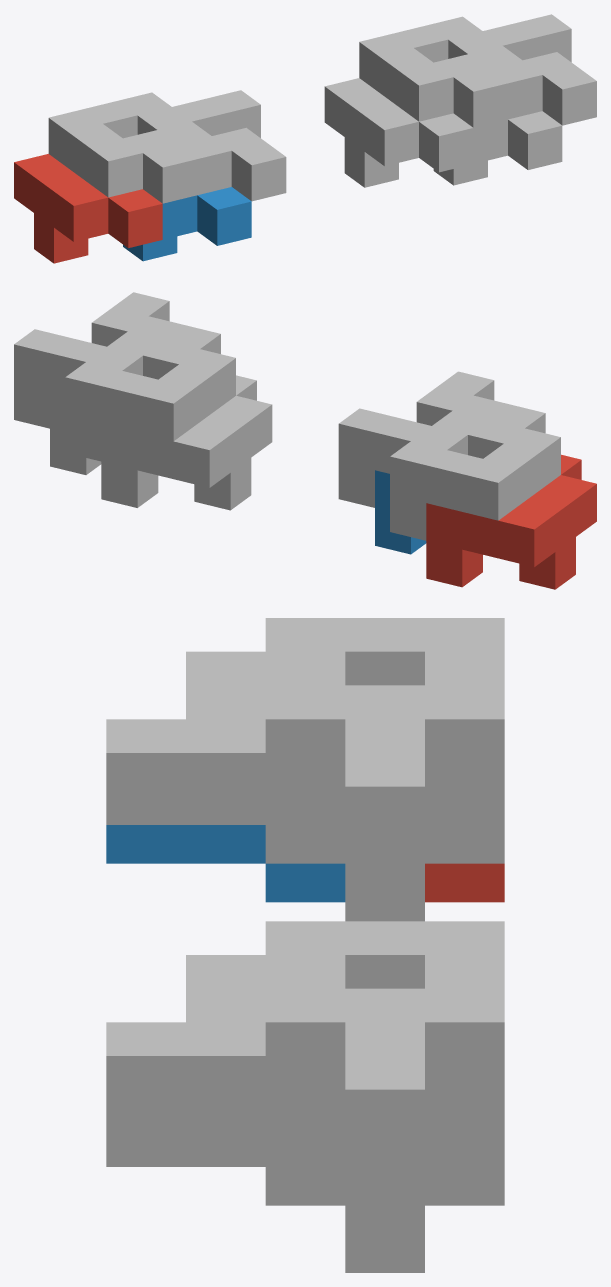
Rendered from tiling.obj.
3 views of the same model, one above another, from view 1: azimuth 30°, elevation 25°; view 2: azimuth 150°, elevation 25°; view 3: azimuth 270°, elevation 25° (orthographic). The views are drawn at different scales.
Visible parts, largest first — view 1: copy_1_domain_3, copy_1_domain_7, copy_1_domain_5, copy_1_domain_1, copy_1_domain_4, copy_1_domain_8, copy_1_domain_2, copy_1_domain_6; view 2: copy_1_domain_7, copy_1_domain_3, copy_1_domain_5, copy_1_domain_1, copy_1_domain_4, copy_1_domain_8, copy_1_domain_6, copy_1_domain_2; view 3: copy_1_domain_8, copy_1_domain_4, copy_1_domain_3, copy_1_domain_7, copy_1_domain_6, copy_1_domain_2, copy_1_domain_1, copy_1_domain_5.
Boxes of the visible parts, x1,y1,x2,y2 form: copy_1_domain_3: [48, 92, 197, 203]; copy_1_domain_7: [359, 16, 507, 127]; copy_1_domain_5: [324, 78, 473, 187]; copy_1_domain_1: [14, 154, 162, 263]; copy_1_domain_4: [137, 90, 286, 201]; copy_1_domain_8: [448, 14, 596, 125]; copy_1_domain_2: [123, 187, 251, 261]; copy_1_domain_6: [433, 111, 562, 185]; copy_1_domain_7: [65, 325, 235, 461]; copy_1_domain_3: [390, 404, 560, 540]; copy_1_domain_5: [101, 375, 272, 510]; copy_1_domain_1: [426, 454, 596, 589]; copy_1_domain_4: [338, 371, 508, 507]; copy_1_domain_8: [14, 292, 184, 428]; copy_1_domain_6: [50, 391, 101, 474]; copy_1_domain_2: [375, 470, 426, 554]; copy_1_domain_8: [106, 988, 424, 1234]; copy_1_domain_4: [106, 685, 424, 921]; copy_1_domain_3: [186, 618, 504, 863]; copy_1_domain_7: [186, 921, 504, 1166]; copy_1_domain_6: [106, 1128, 424, 1272]; copy_1_domain_2: [106, 825, 345, 902]; copy_1_domain_1: [425, 863, 504, 902]; copy_1_domain_5: [425, 1167, 504, 1205].
Size of the model in its own units: 15 by 3 by 5.
